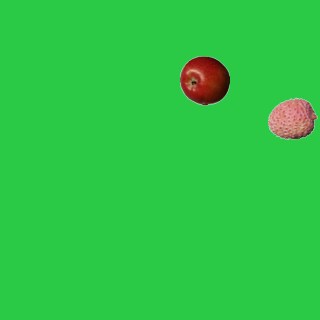Apple Braeburn: (179, 55, 229, 105)
Lychee: (267, 93, 317, 143)
